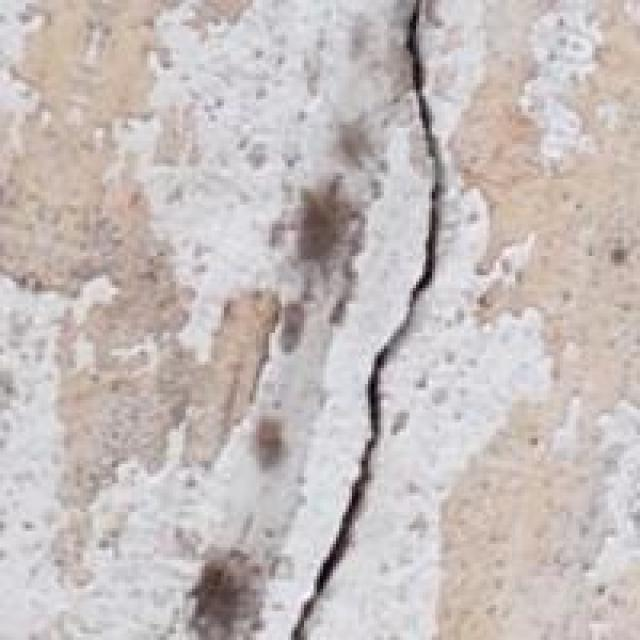Crack: (211, 6, 499, 640)
